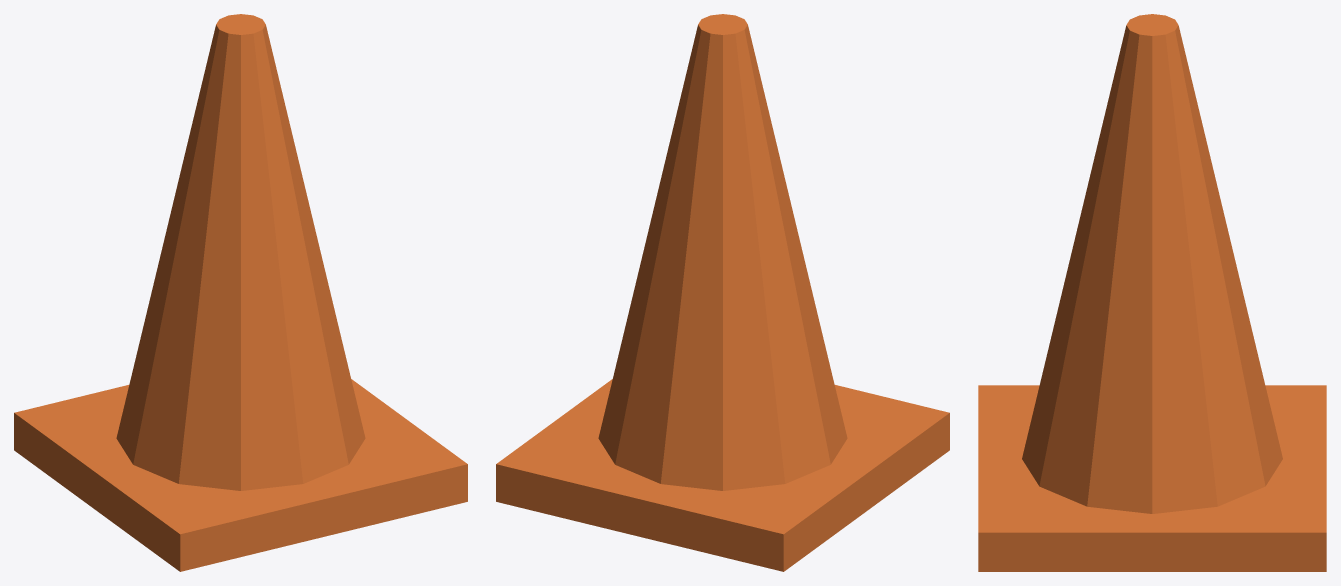
The model's file is prop_thumbtacks_p2.glb.
3 views of the same model, side by side, from view 1: azimuth 30°, elevation 25°; view 2: azimuth 150°, elevation 25°; view 3: azimuth 270°, elevation 25° (orthographic). The views are drawn at different scales.
Parts seen in each view (by area): view 1: prop_thumbtacks_p2_mesh; view 2: prop_thumbtacks_p2_mesh; view 3: prop_thumbtacks_p2_mesh.
Boxes of the visible parts, x1,y1,x2,y2 form: prop_thumbtacks_p2_mesh: (14, 14, 467, 571); prop_thumbtacks_p2_mesh: (496, 14, 949, 571); prop_thumbtacks_p2_mesh: (978, 14, 1326, 571).
Bounding box in the file's own units: 0.16 × 0.24 × 0.16.
